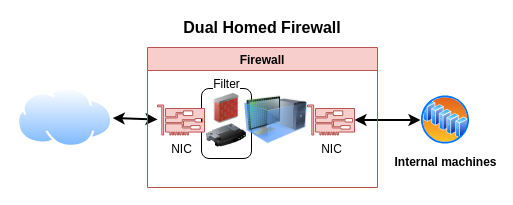
Some shapes in this 513 by 205 pixel diagram are drawn without their labels. Here are the shapes that lost their labels. From the top down, the centre of each, then its label:
point 64,117: Internet
point 226,135: Router
point 275,120: Host
